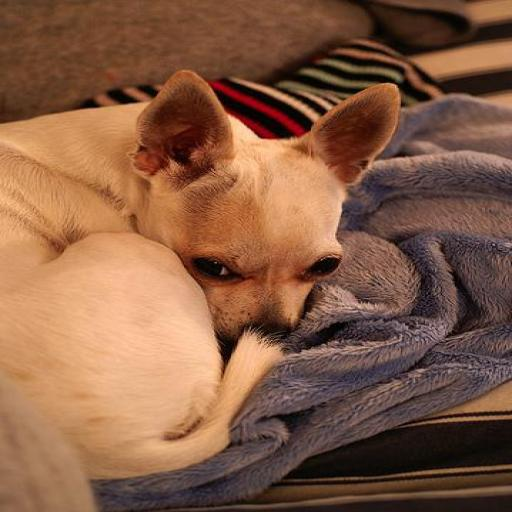dog_face: (138, 67, 400, 346)
